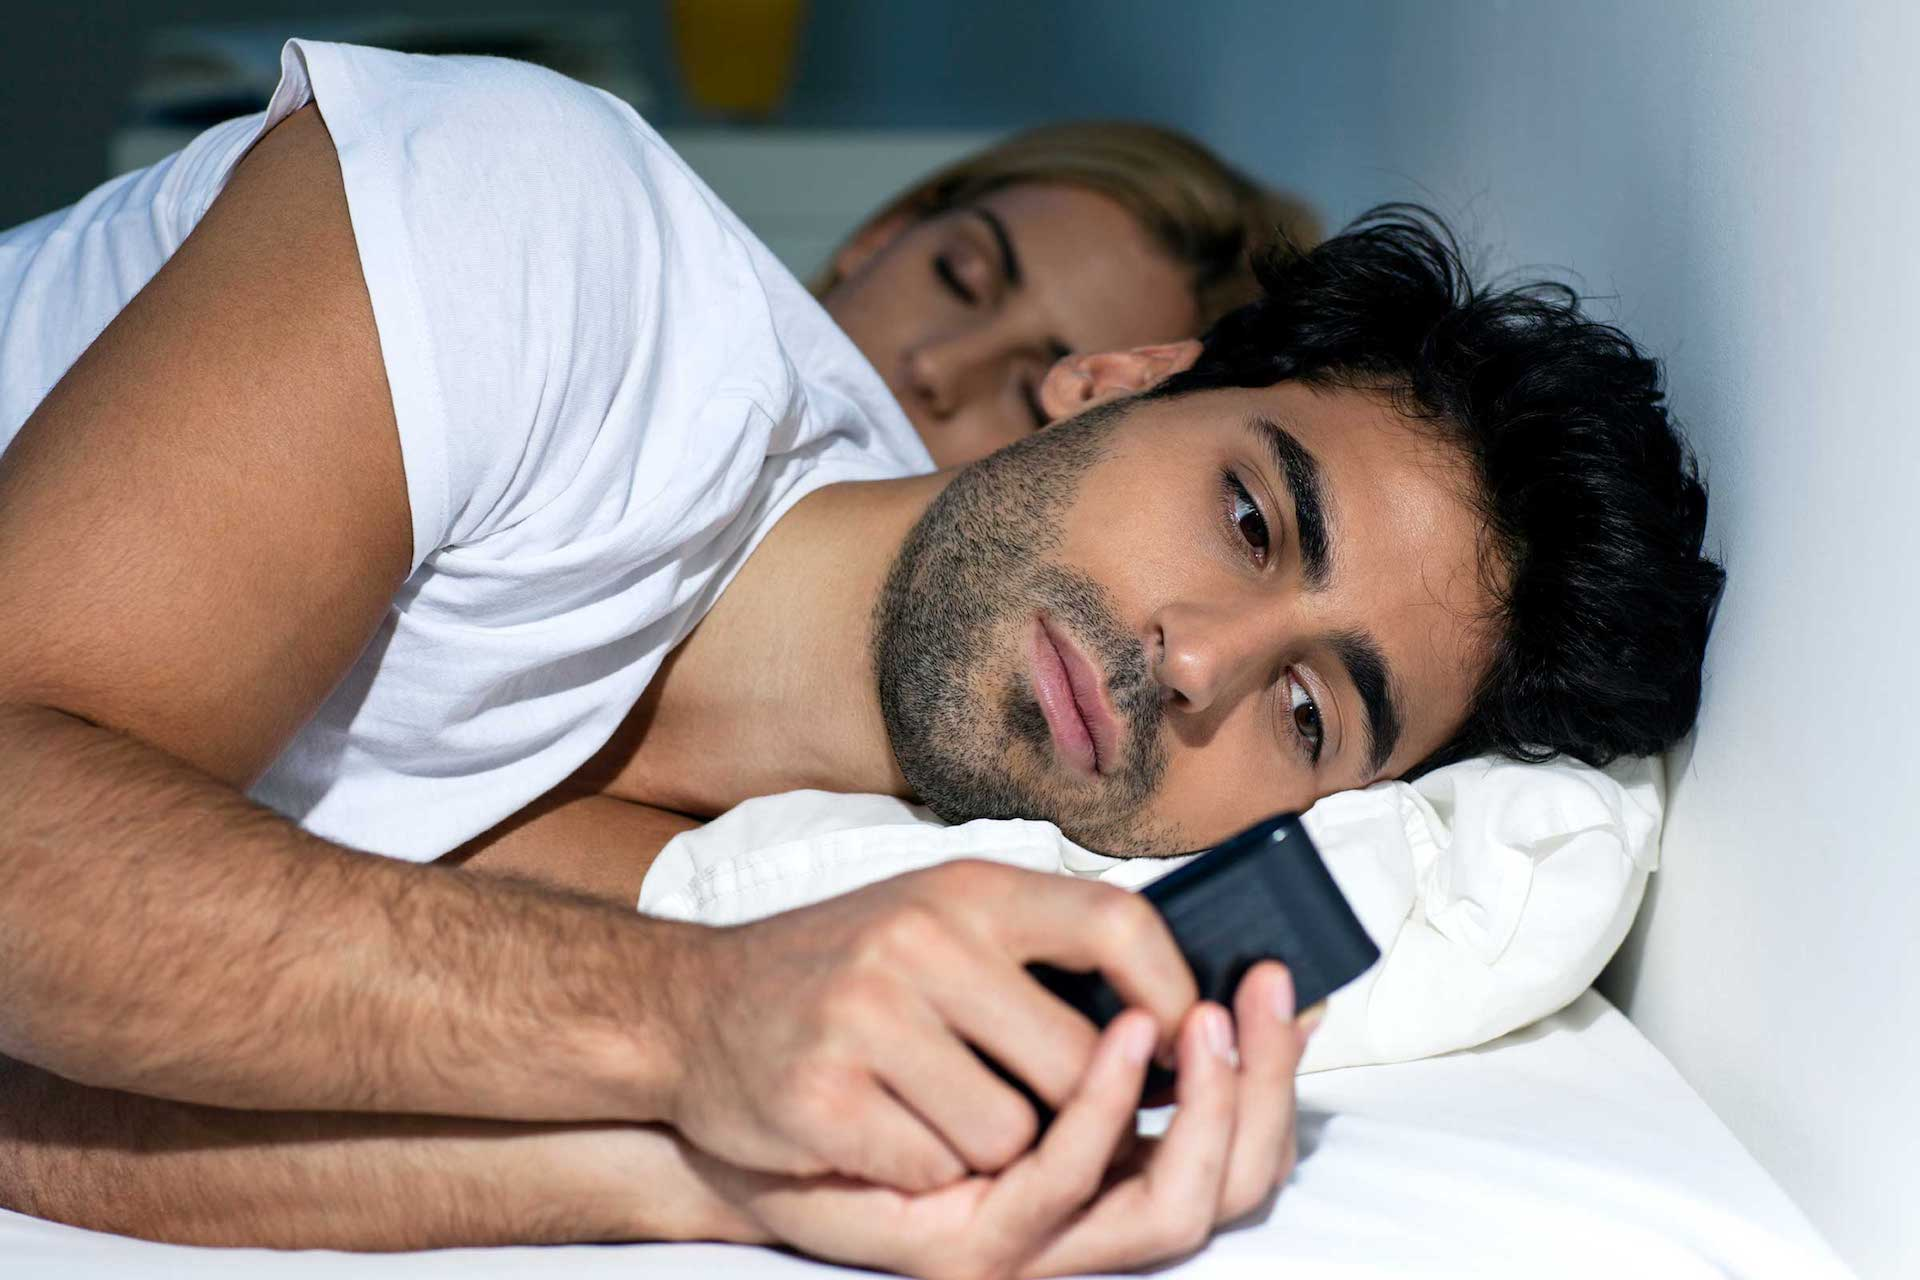smartphone: (966, 810, 1389, 1160)
